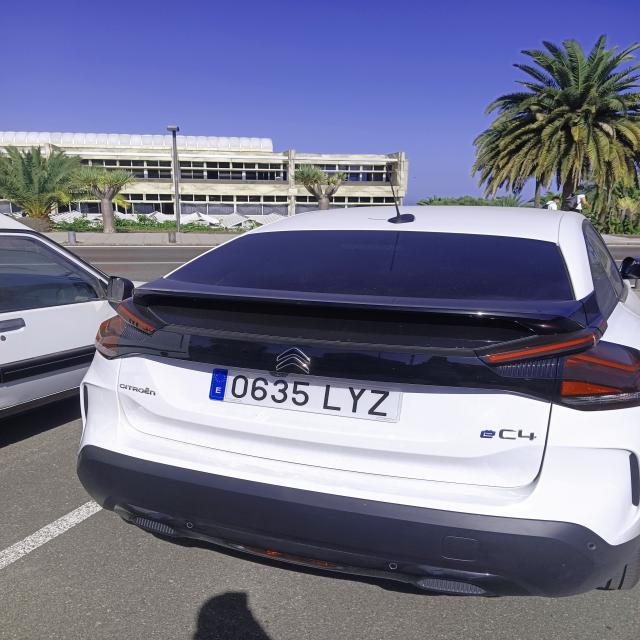football: (211, 368, 401, 420)
